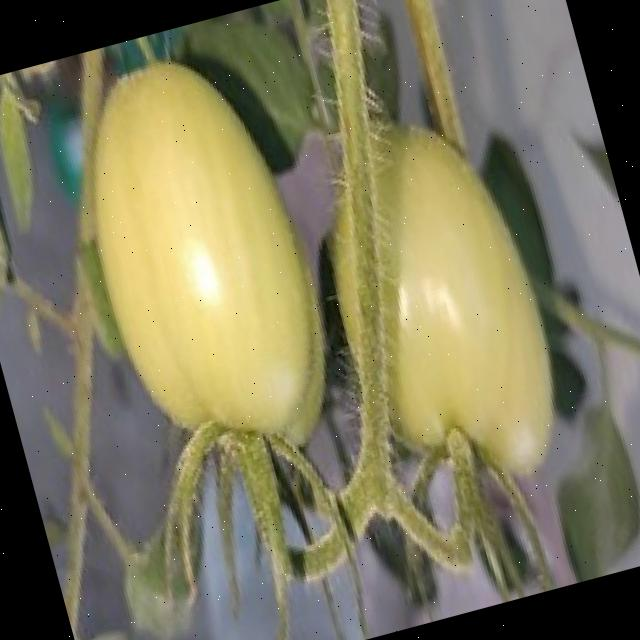tomato: (29, 0, 584, 621)
